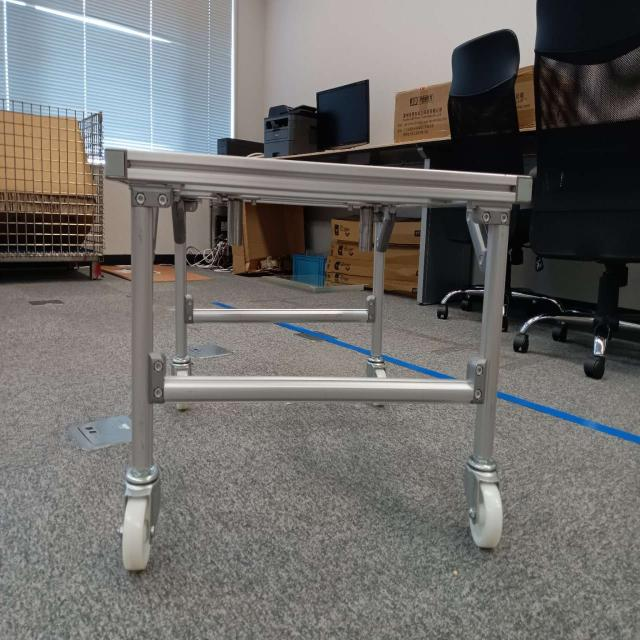side: (128, 146, 498, 407)
